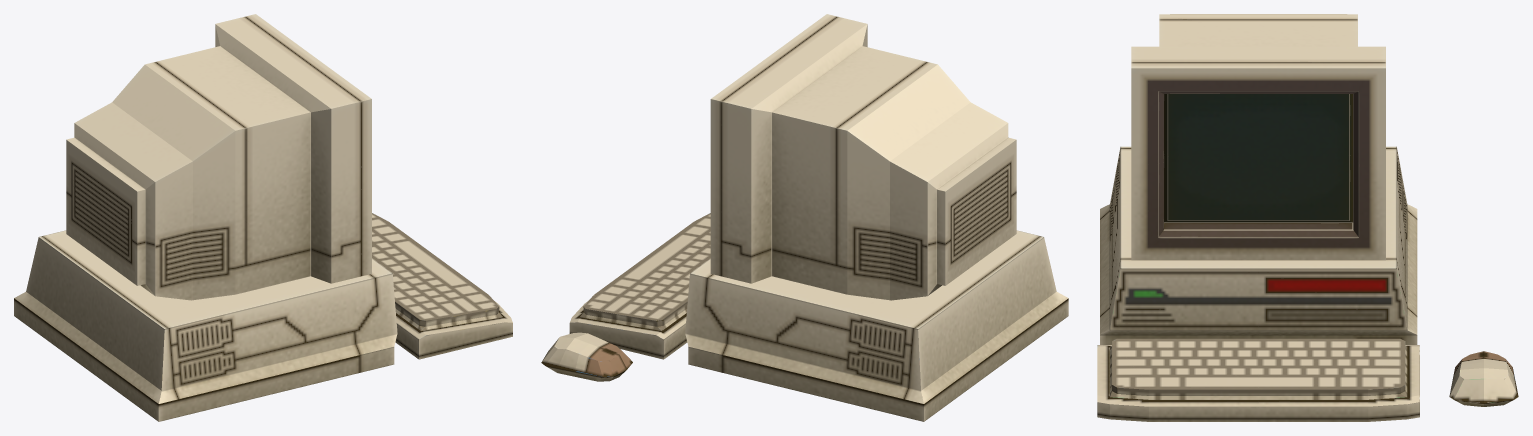
3 views of the same model, side by side, from view 1: azimuth 30°, elevation 25°; view 2: azimuth 150°, elevation 25°; view 3: azimuth 270°, elevation 25° (orthographic). The views are drawn at different scales.
Parts seen in each view (by area): view 1: Monitor, CPU, Keyboard; view 2: Monitor, CPU, Keyboard, Mouse; view 3: Monitor, CPU, Keyboard, Mouse.
Part boxes in pixels (x1,y1,x2,y2): Monitor: (66,14,371,300); CPU: (14,230,397,421); Keyboard: (372,213,512,359); Monitor: (710,14,1016,300); CPU: (685,230,1068,421); Keyboard: (569,213,710,359); Mouse: (541,332,632,381); Monitor: (1131,14,1385,260); CPU: (1100,146,1417,344); Keyboard: (1097,338,1419,421); Mouse: (1449,351,1518,406).
Bounding box in the file's own units: 4.61 × 3.13 × 4.24.
4 materials, 4 textured.
